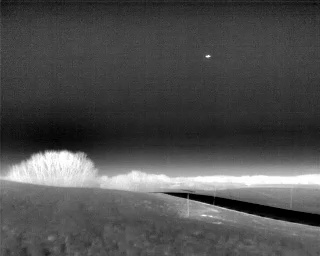AIRPLANE: (203, 52, 213, 61)
